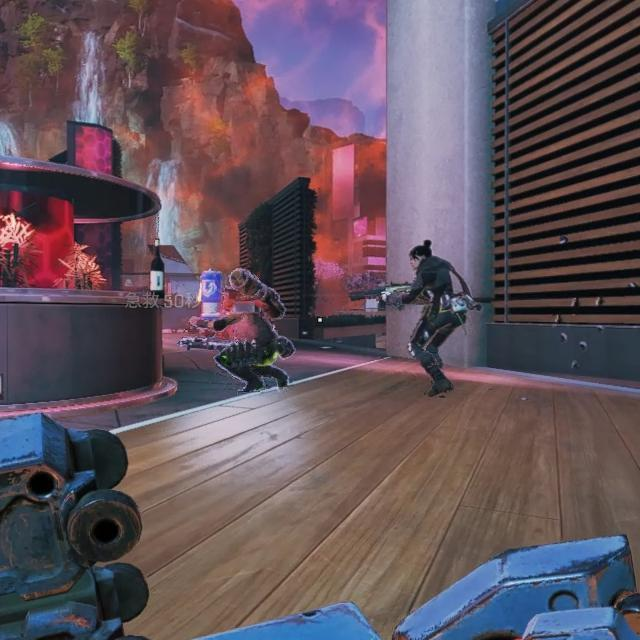avatar: (206, 268, 297, 395), (403, 237, 472, 399)
